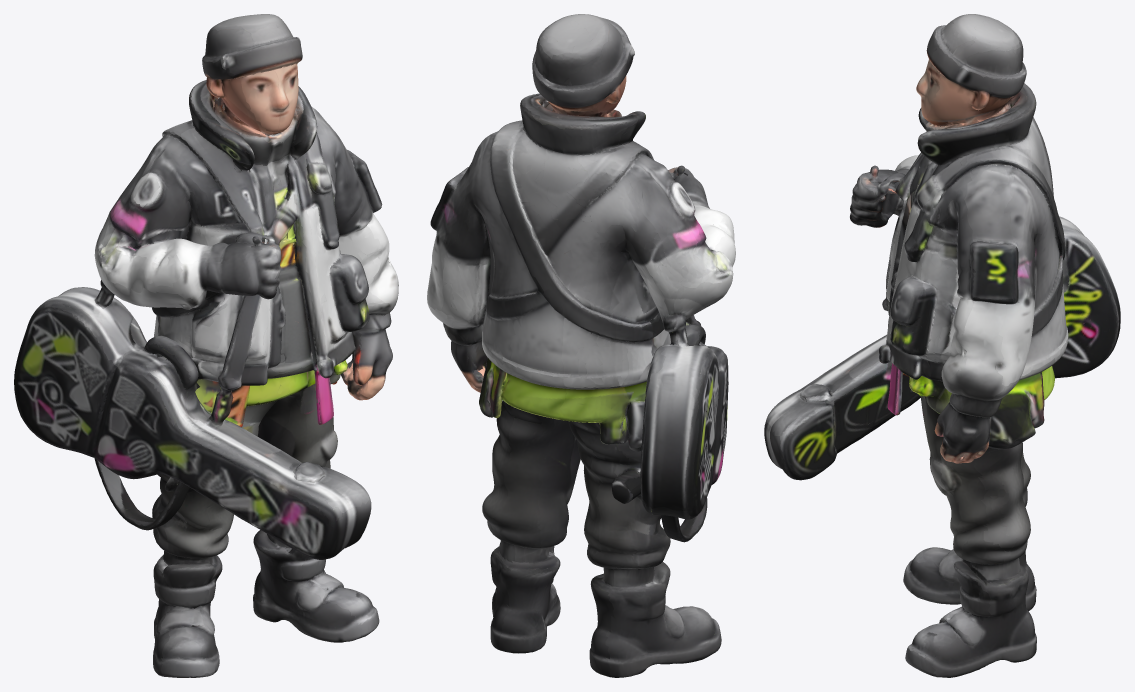
File: u_chr_performer.glb
3 views of the same model, side by side, from view 1: azimuth 30°, elevation 25°; view 2: azimuth 150°, elevation 25°; view 3: azimuth 270°, elevation 25° (orthographic).
Parts seen in each view (by area): view 1: geometry_0; view 2: geometry_0; view 3: geometry_0.
Part boxes in pixels (x1,y1,x2,y2): geometry_0: (14, 14, 398, 677); geometry_0: (427, 14, 735, 677); geometry_0: (764, 14, 1120, 677).
Size of the model in its own units: 0.0965 by 0.18 by 0.0955.
1 material, 1 textured.
